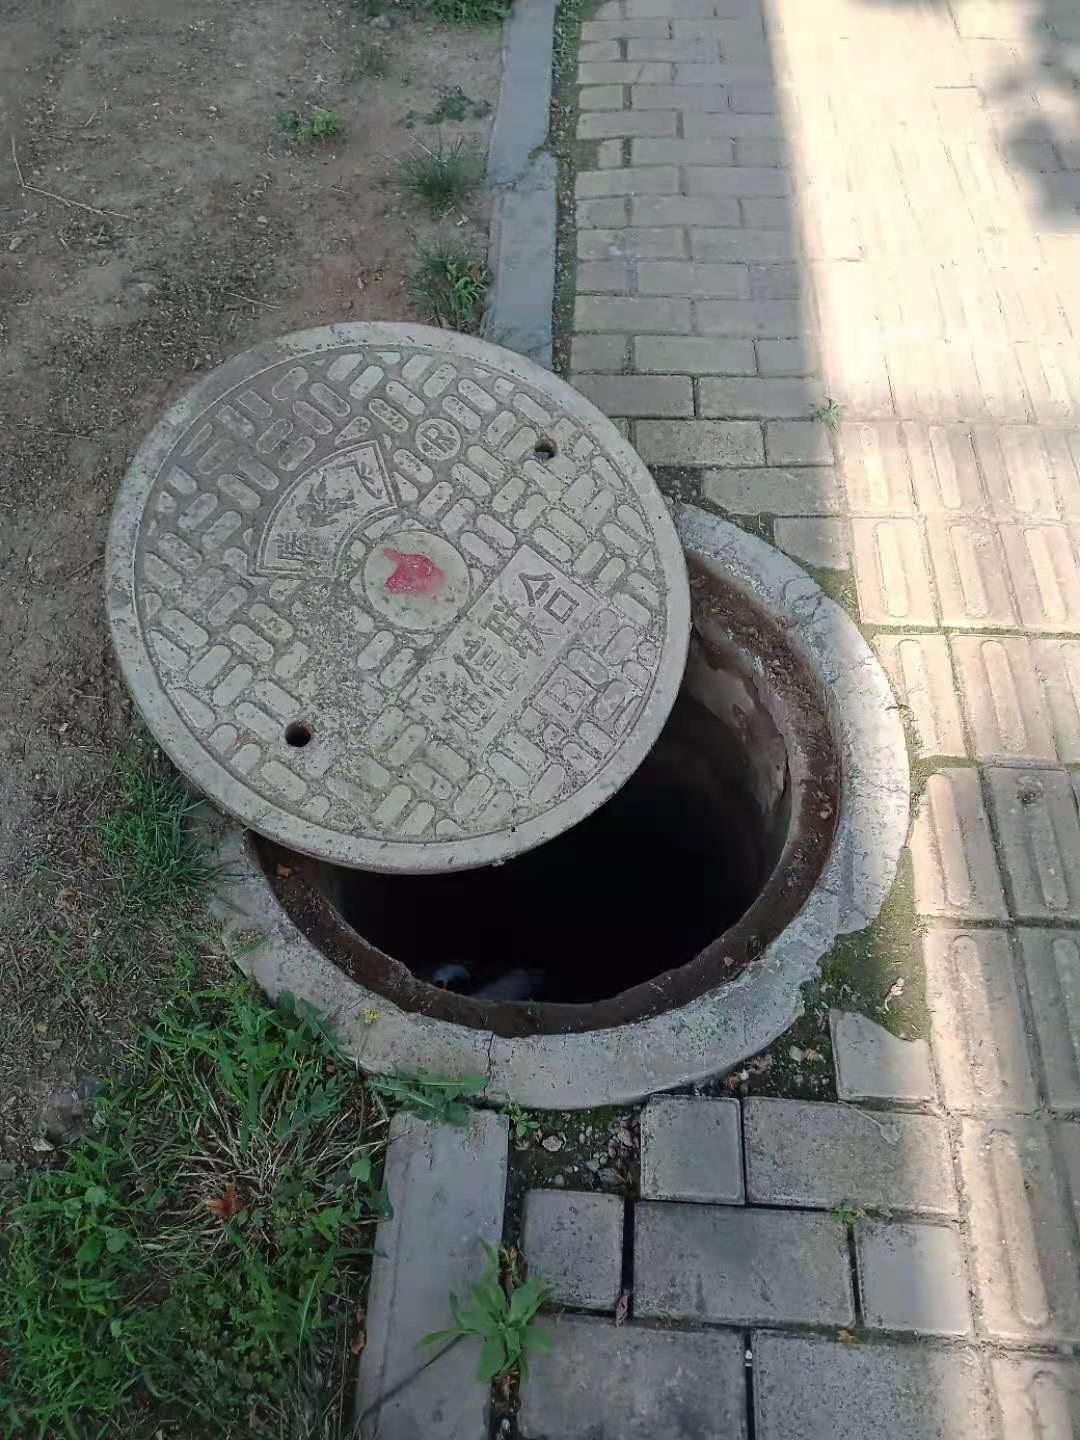uncovered: (107, 315, 908, 1123)
